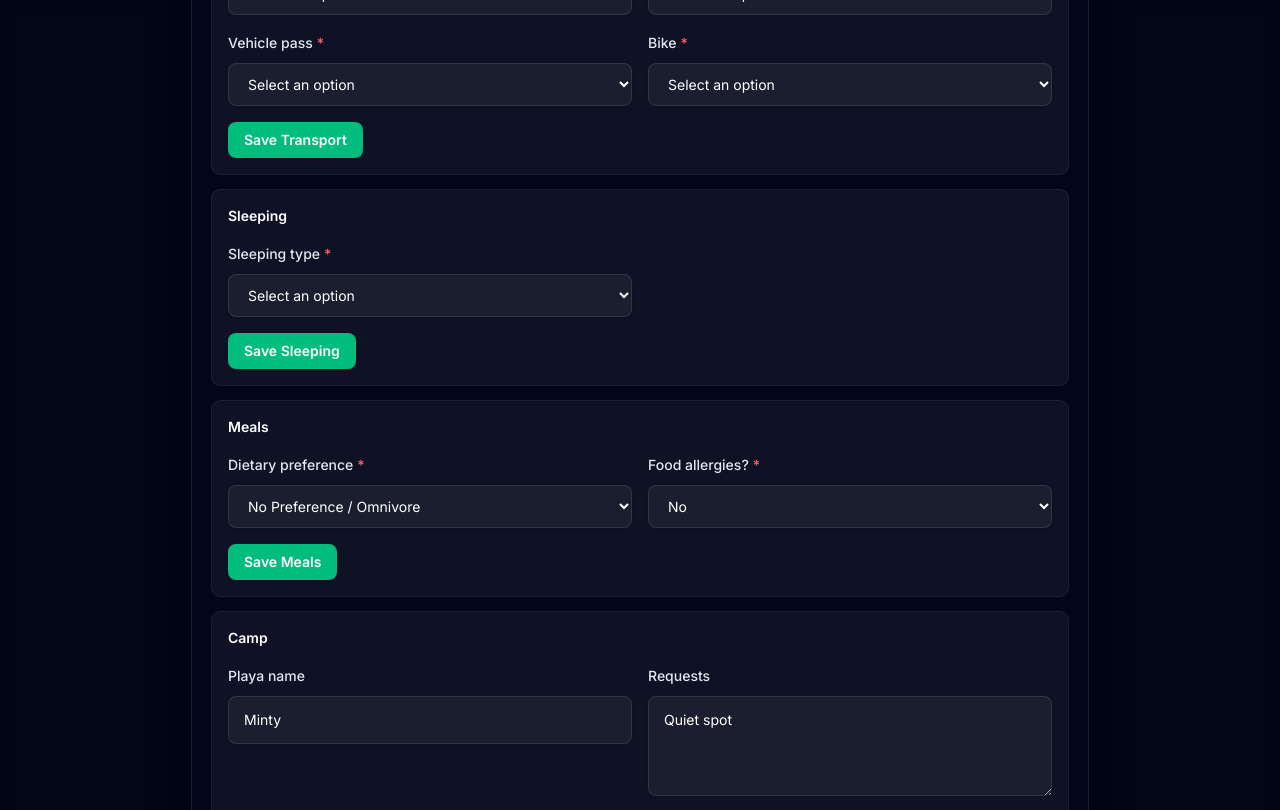
ProfileEditDialog › shows mutation errors without closing the dialog
The width and height of the screenshot is (1280, 810).
(page scrolled)
Select "Yes" in the dropdown labelled "Food allergies?*": [850, 506] box [648,485,1052,528]
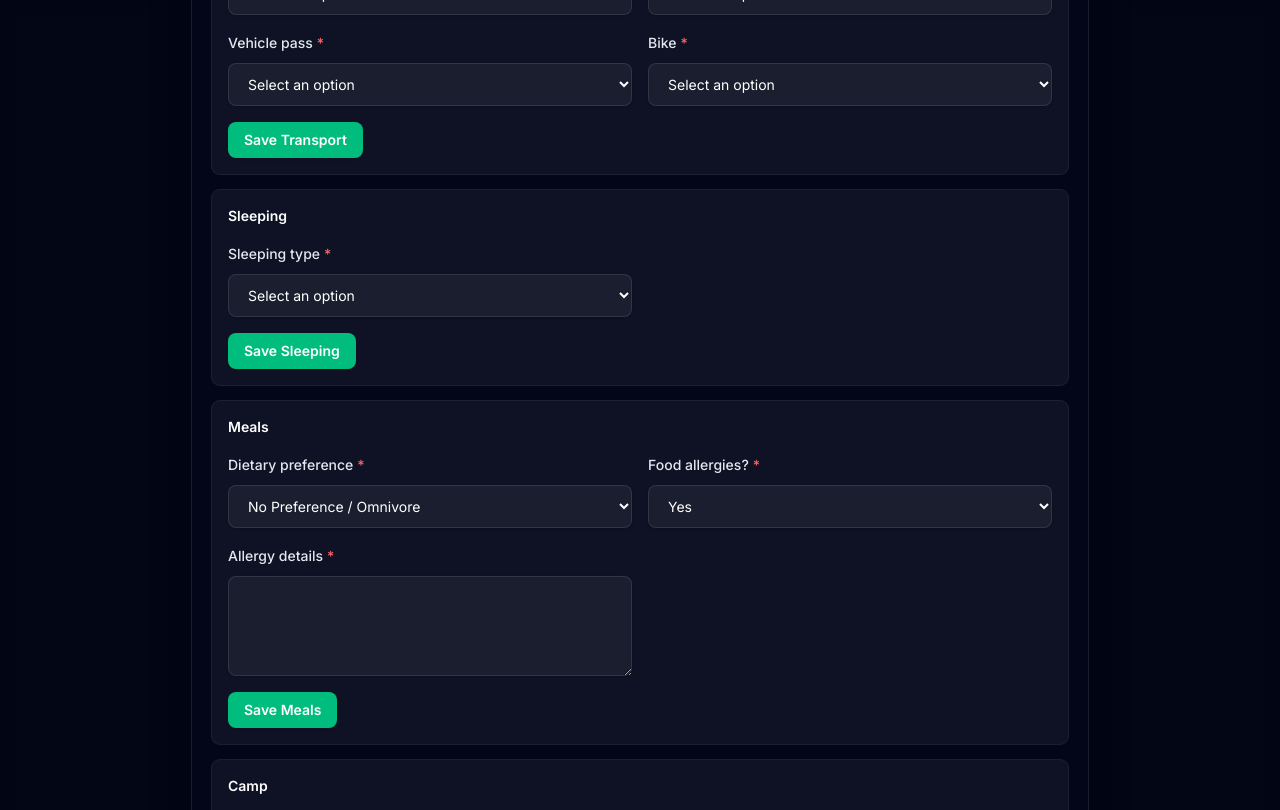
In the text box labelled "Allergy details*": [430, 626] box [228,576,632,676], type "Peanuts"
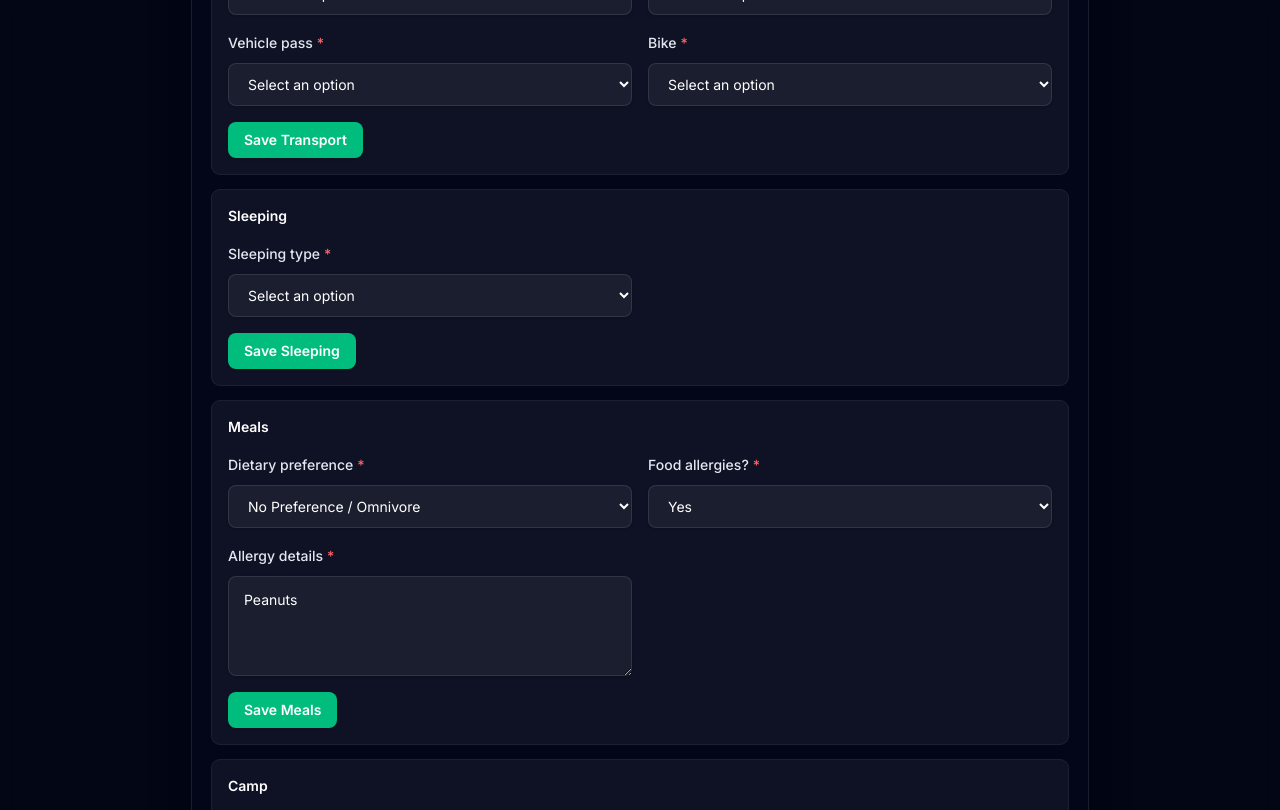
Click the button "Save Meals": [283, 710] box [228,692,337,728]
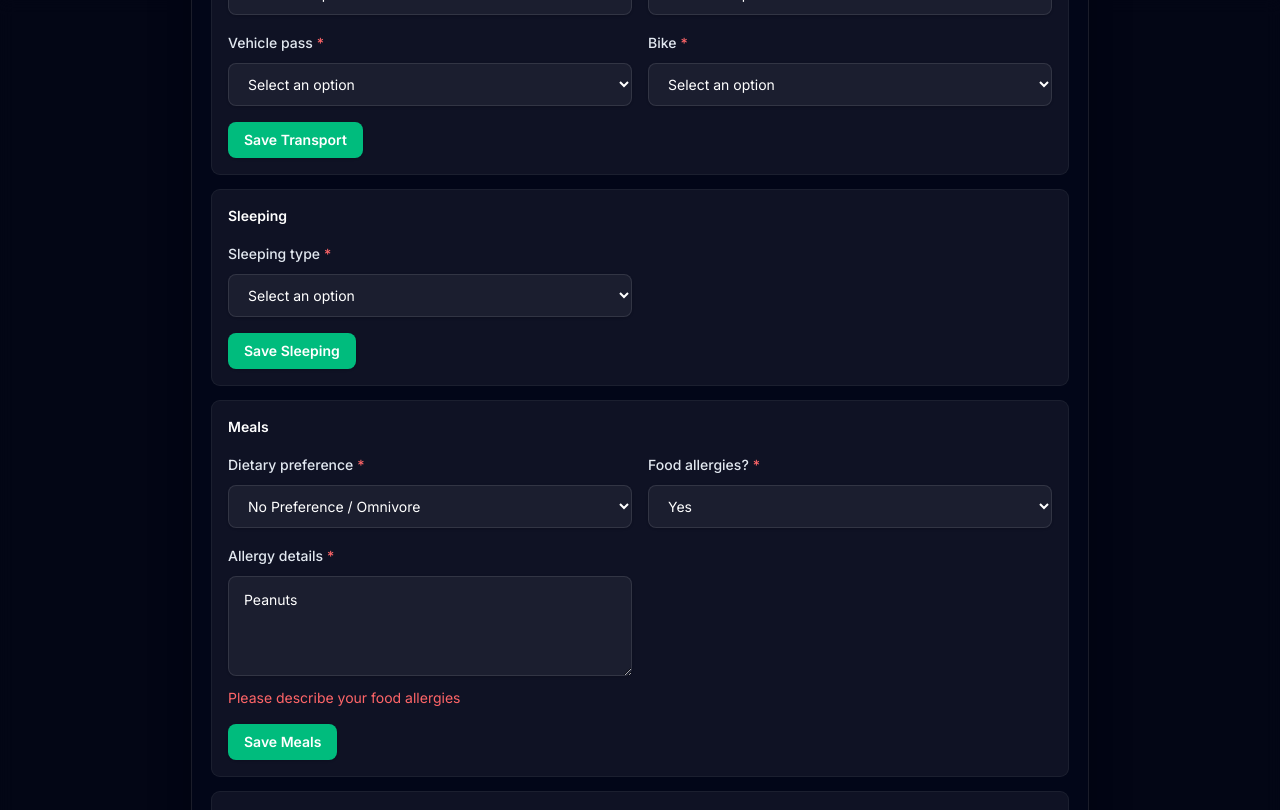
Check: the text "Please describe your food allergies" is shown, box [228,689,460,706]
